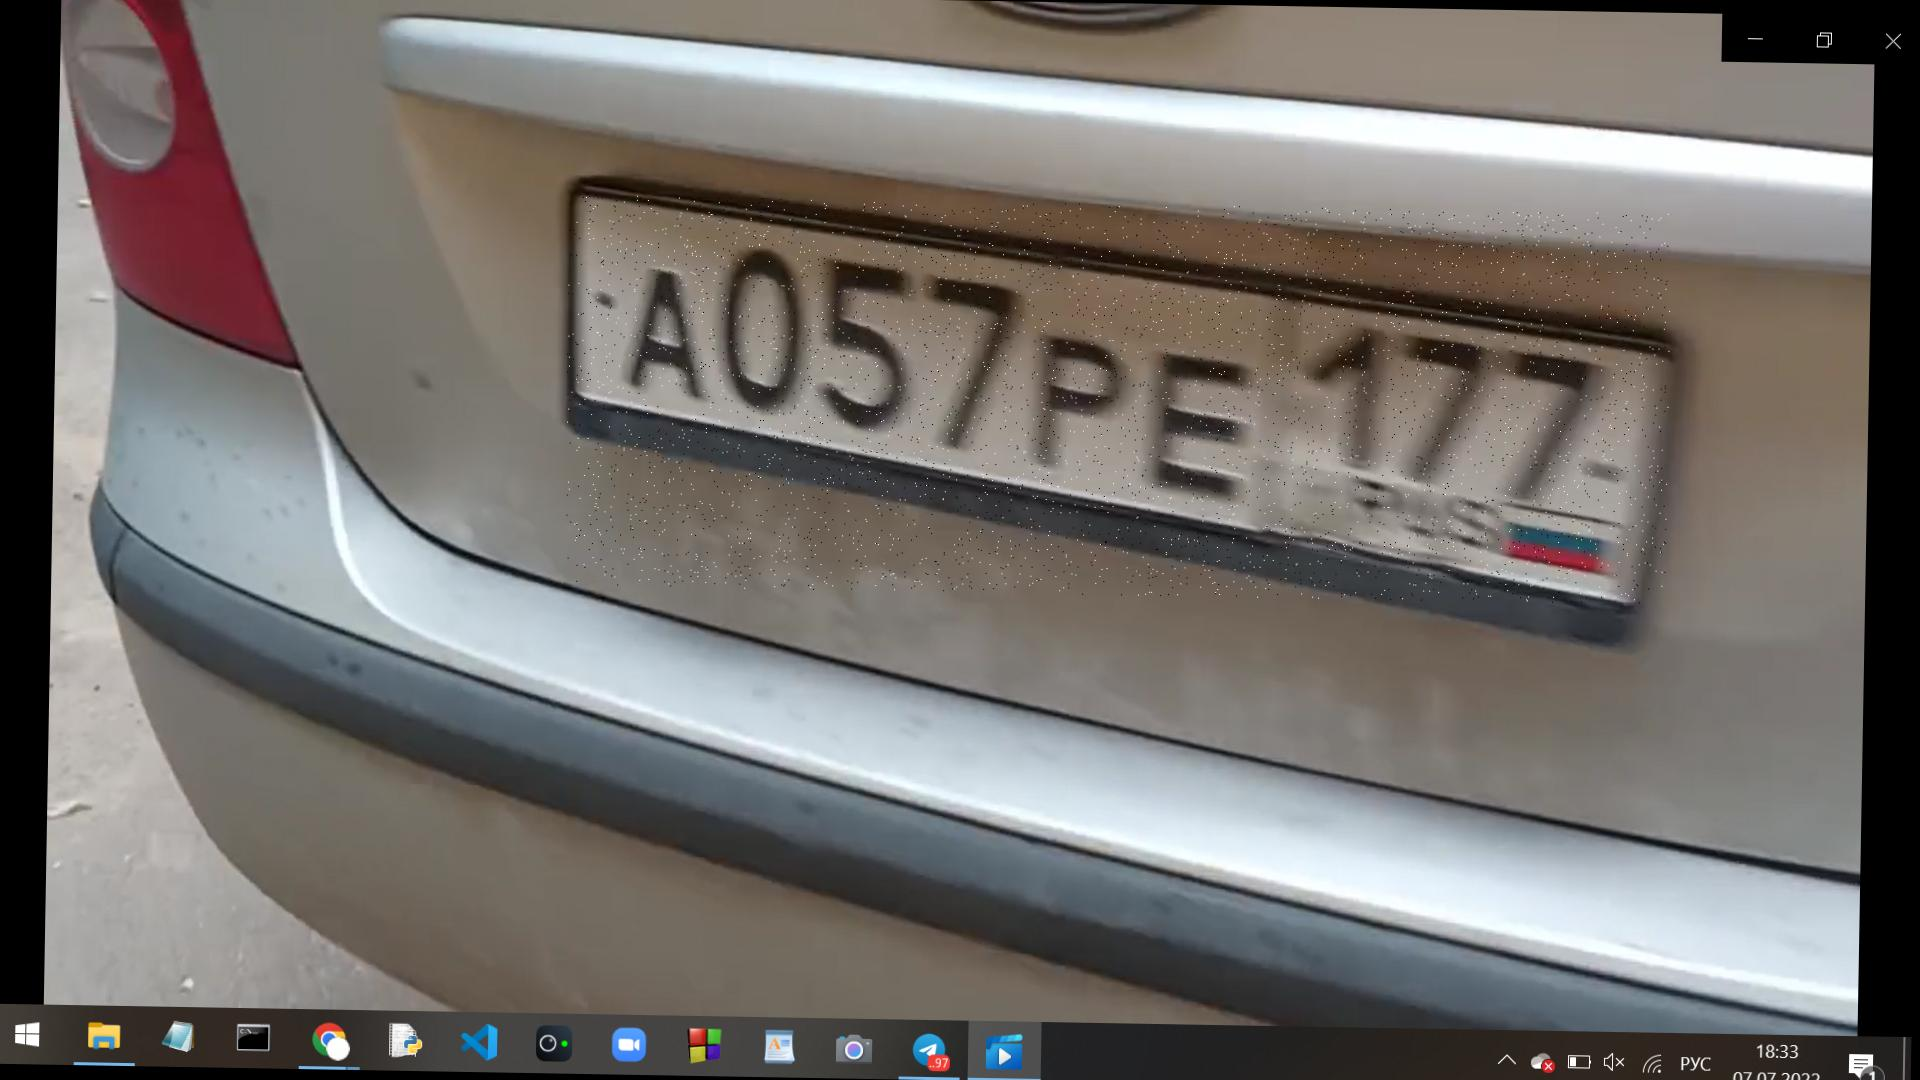plate: (565, 196, 1674, 606)
